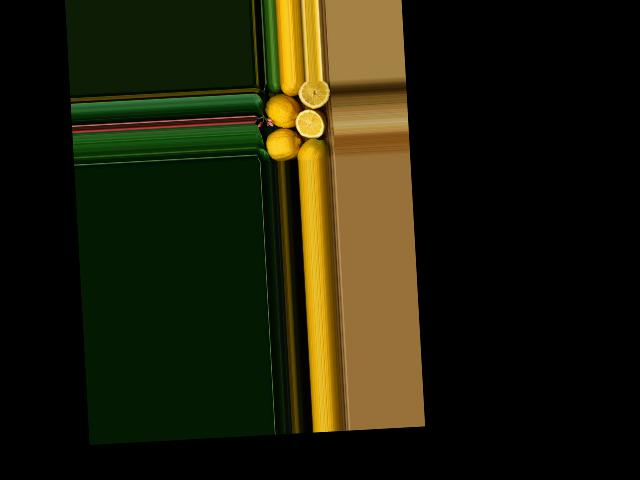lemon: (292, 133, 328, 161)
